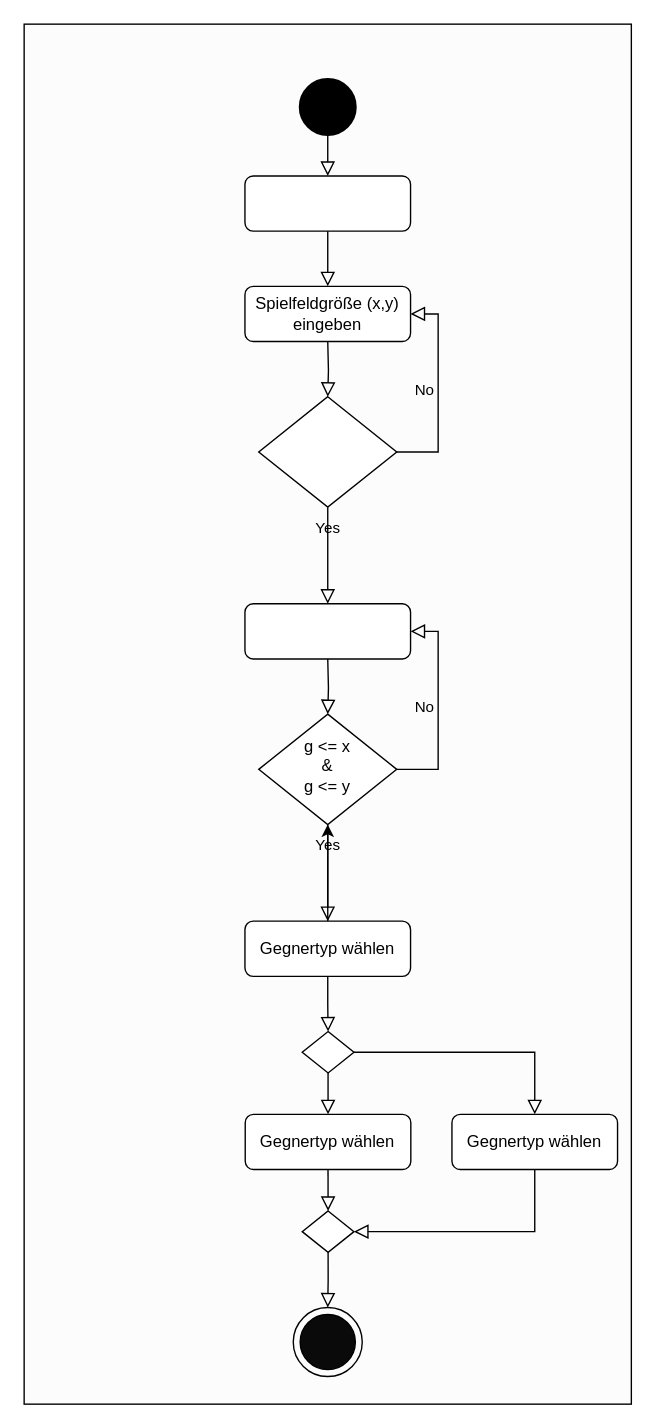
Some shapes in this 656 by 1428 pixel diagram are drawn without their labels. The shapes that lost their labels are listed below. From the top down, each one's centre as x and y in pixels, then its label:
At point 327,203: "Spielparameter festlegen".
At point 327,451: "x >= 3 & y >= 3".
At point 327,630: "Gewinnparameter (g) eingeben".
